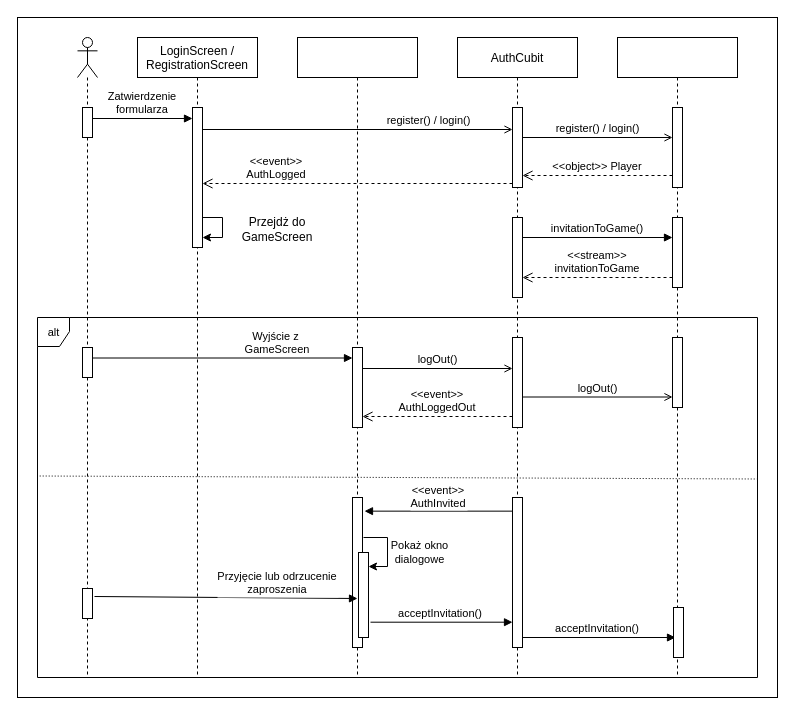
The diagram is 795 pixels wide and 715 high, and some of its shapes have lost their labels. The shapes that lost their labels are listed below. From the top down, each one's centre as x and y in pixels, then its label:
At point (357, 357): "GameScreen".
At point (677, 357): "AuthFirebase".
